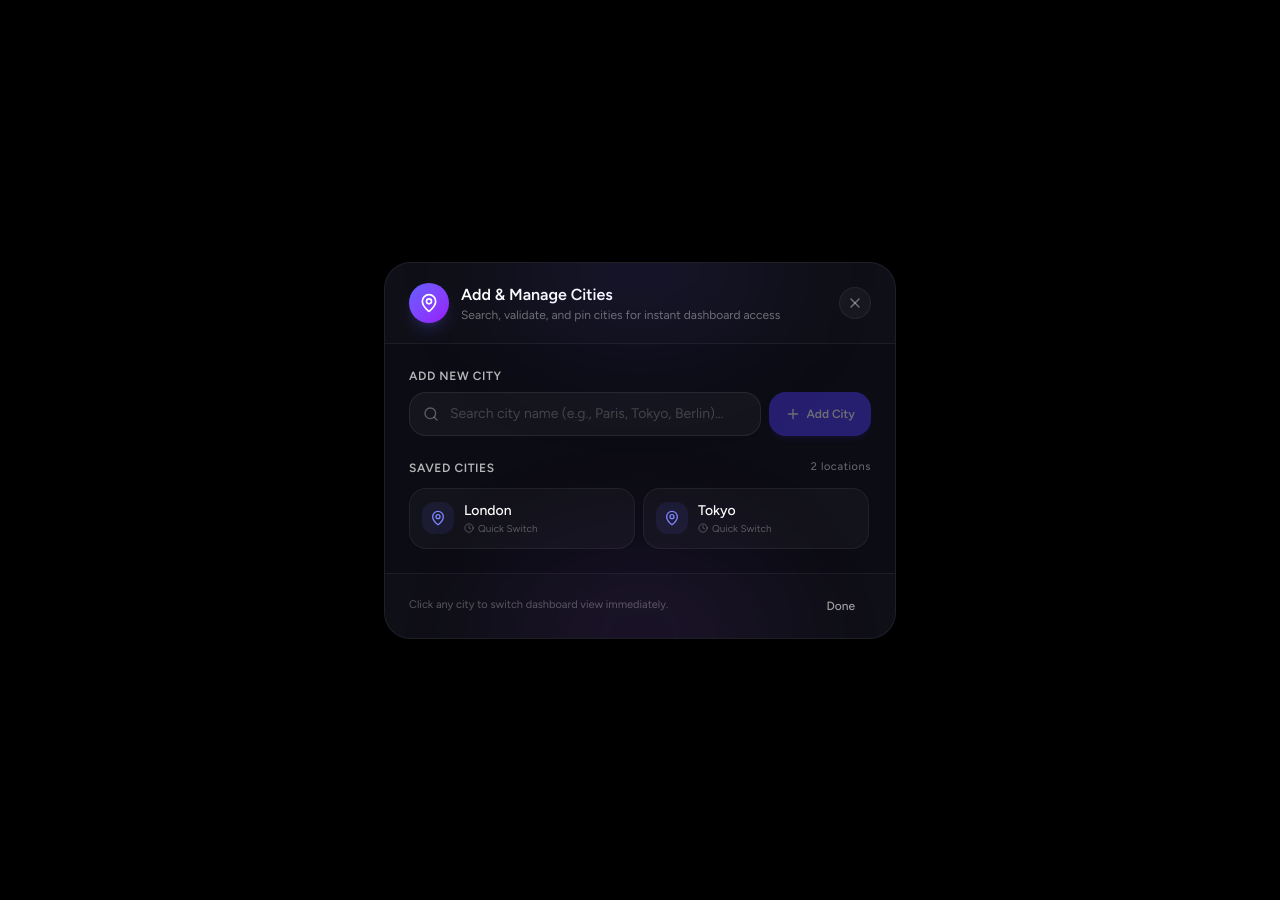
Scenario: AddCityModal › shows error when city is not found by weather API
In the field with placeholder "Search city name (e.g., Paris, Tokyo, Berlin)...": [585, 414] box [409, 392, 761, 436], type "InvalidCityNameXYZ"
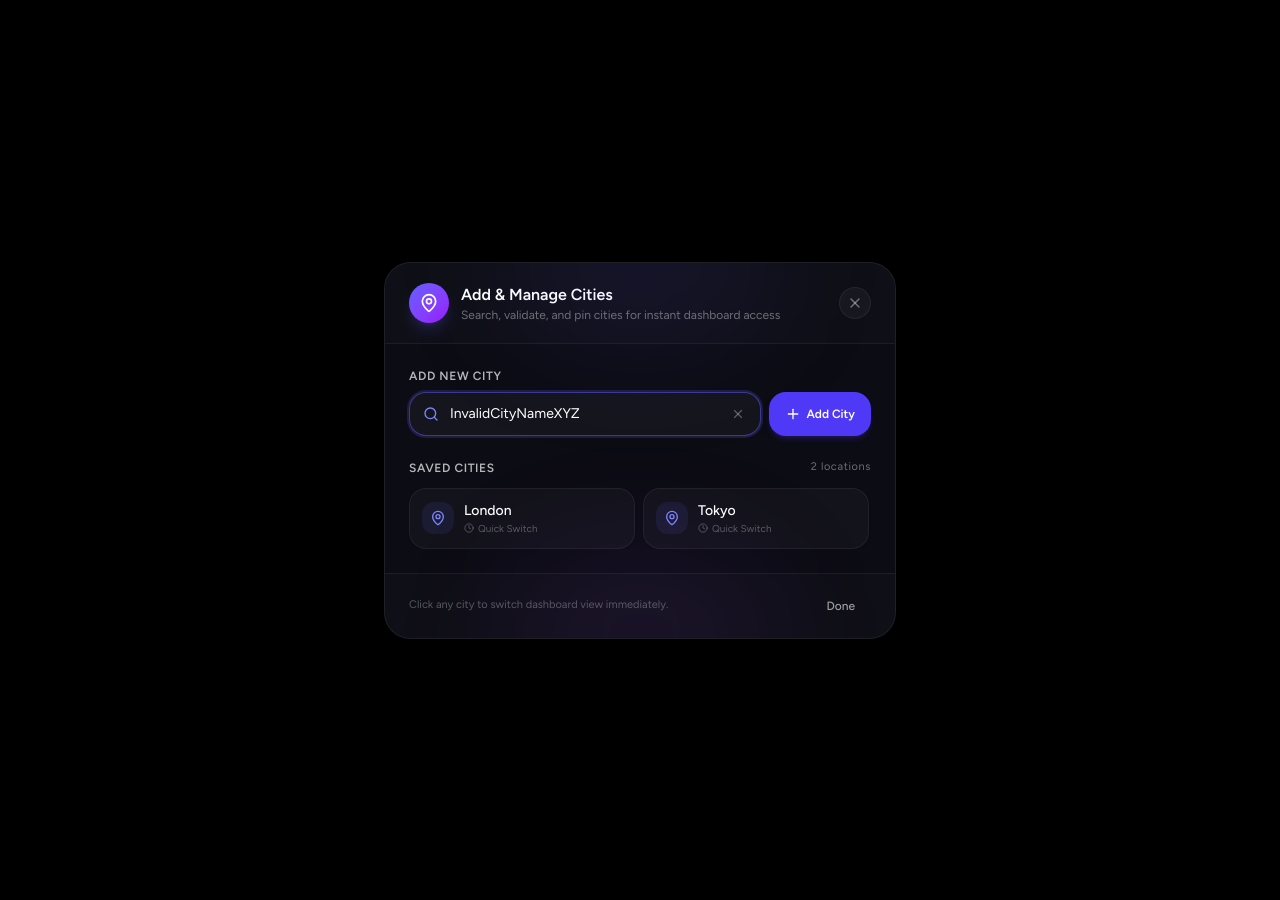
Press Enter
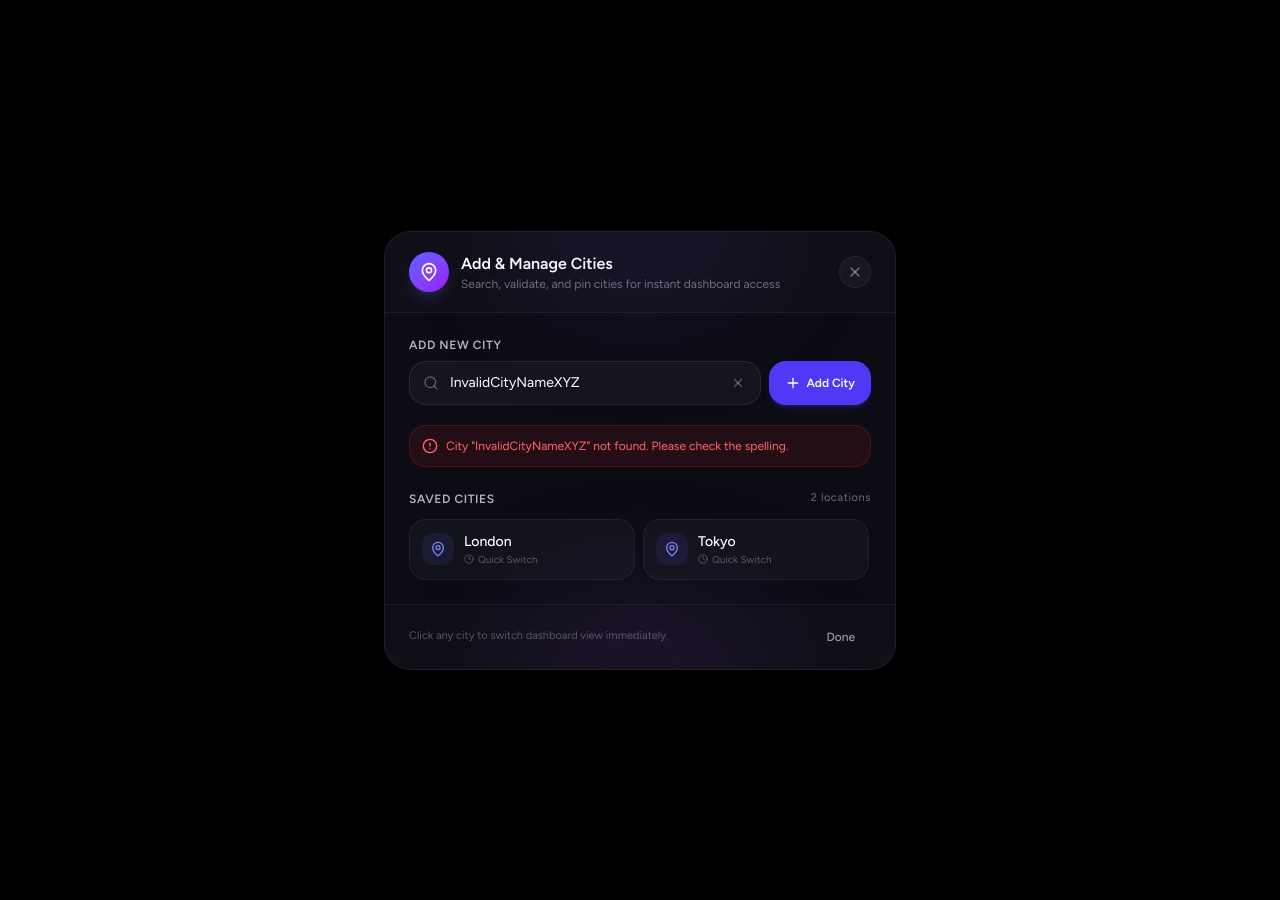
Now the text "City \"InvalidCityNameXYZ\" not found. Please check the spelling." is shown, box [446, 438, 788, 454]
